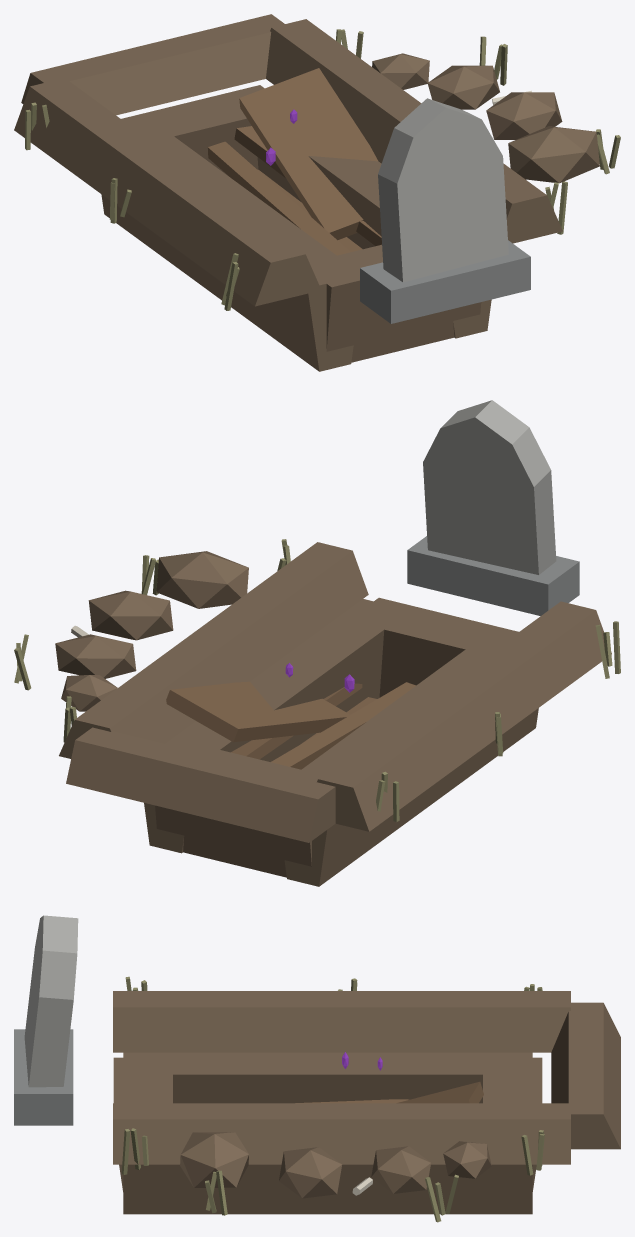
The model's file is FOTF_Grave.fbx.
The picture shows the model from 3 angles, top to bottom: view 1: azimuth 30°, elevation 25°; view 2: azimuth 150°, elevation 25°; view 3: azimuth 270°, elevation 25°; orthographic projection. The views are drawn at different scales.
Visible parts, largest first — view 1: EarthLip_L, Headstone, EarthLip_Foot, PitWall_L, EarthLip_R, CoffinLidBroken, PitWall_Head, HeadstoneBase, PitWall_Foot, PitWall_R, SpoilPile_0, CoffinPlank_1 (+4 smaller); view 2: EarthLip_L, EarthLip_R, Headstone, EarthLip_Foot, PitWall_R, PitWall_L, HeadstoneBase, PitWall_Head, CoffinLidBroken, PitWall_Foot, SpoilPile_0, SpoilPile_1 (+4 smaller); view 3: EarthLip_L, EarthLip_R, PitWall_L, PitWall_R, EarthLip_Foot, Headstone, HeadstoneBase, SpoilPile_0, PitWall_Foot, PitWall_Head, SpoilPile_1, SpoilPile_2 (+2 smaller).
Part boxes in pixels (bbox=[...]): EarthLip_L: bbox=[14, 78, 321, 306]; Headstone: bbox=[378, 98, 508, 282]; EarthLip_Foot: bbox=[21, 14, 284, 115]; PitWall_L: bbox=[101, 117, 359, 371]; EarthLip_R: bbox=[266, 19, 562, 243]; CoffinLidBroken: bbox=[239, 68, 377, 240]; PitWall_Head: bbox=[309, 244, 481, 362]; HeadstoneBase: bbox=[360, 240, 530, 323]; PitWall_Foot: bbox=[121, 85, 264, 175]; PitWall_R: bbox=[230, 90, 491, 338]; SpoilPile_0: bbox=[508, 126, 599, 183]; CoffinPlank_1: bbox=[207, 141, 350, 255]; EarthLip_L: bbox=[317, 601, 611, 831]; EarthLip_R: bbox=[59, 542, 368, 758]; Headstone: bbox=[423, 400, 556, 574]; EarthLip_Foot: bbox=[66, 727, 335, 842]; PitWall_R: bbox=[144, 599, 409, 853]; PitWall_L: bbox=[284, 633, 538, 886]; HeadstoneBase: bbox=[407, 536, 579, 615]; PitWall_Head: bbox=[348, 597, 518, 697]; CoffinLidBroken: bbox=[166, 681, 350, 742]; PitWall_Foot: bbox=[155, 747, 322, 877]; SpoilPile_0: bbox=[156, 551, 248, 608]; SpoilPile_1: bbox=[88, 590, 173, 640]; EarthLip_L: bbox=[113, 991, 570, 1052]; EarthLip_R: bbox=[113, 1103, 570, 1164]; PitWall_L: bbox=[123, 1052, 532, 1103]; PitWall_R: bbox=[123, 1164, 532, 1214]; EarthLip_Foot: bbox=[551, 1002, 620, 1149]; Headstone: bbox=[24, 915, 78, 1087]; HeadstoneBase: bbox=[14, 1029, 73, 1125]; SpoilPile_0: bbox=[180, 1132, 248, 1187]; PitWall_Foot: bbox=[483, 1057, 542, 1191]; PitWall_Head: bbox=[113, 1057, 172, 1191]; SpoilPile_1: bbox=[279, 1147, 342, 1198]; SpoilPile_2: bbox=[371, 1146, 430, 1193].
Size of the model in its own units: 278 by 168 by 348.
